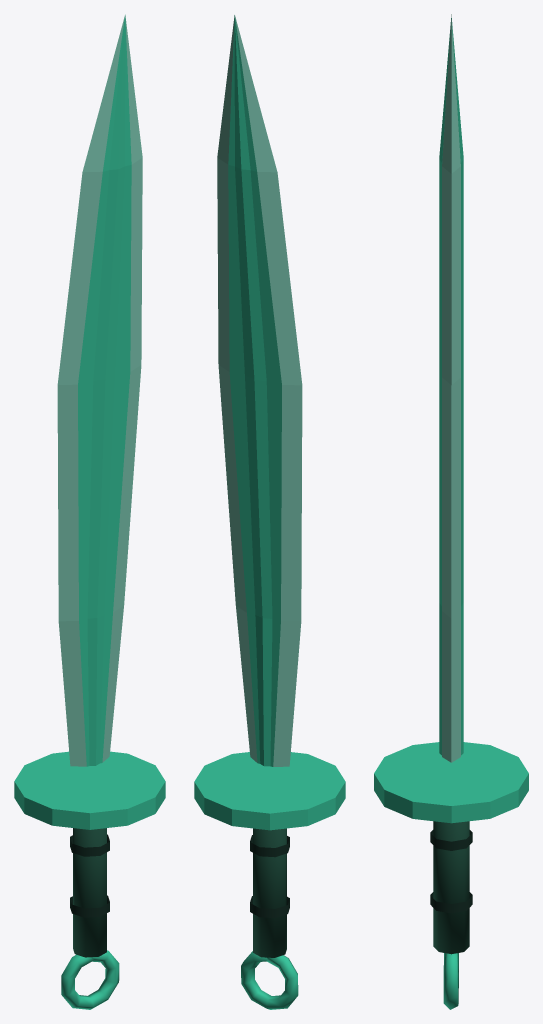
The model's file is mythril_shortsword.glb.
The picture shows the model from 3 angles, left to right: view 1: azimuth 30°, elevation 25°; view 2: azimuth 150°, elevation 25°; view 3: azimuth 270°, elevation 25°; orthographic projection. The views are drawn at different scales.
Visible parts, largest first — view 1: mythril_shortsword_v0; view 2: mythril_shortsword_v0; view 3: mythril_shortsword_v0.
Boxes of the visible parts, <box> form: mythril_shortsword_v0: <box>14,14,165,1009</box>; mythril_shortsword_v0: <box>194,15,345,1009</box>; mythril_shortsword_v0: <box>374,14,528,1009</box>.
Bounding box in the file's own units: 0.18 × 1.3 × 0.18.
